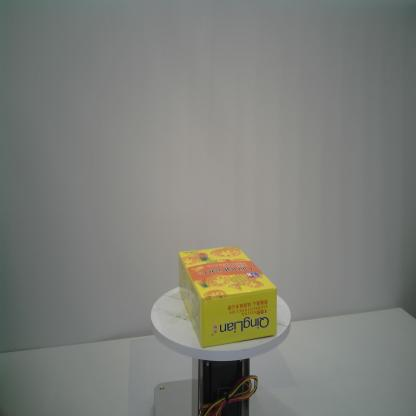Dessert: (178, 246, 278, 347)
